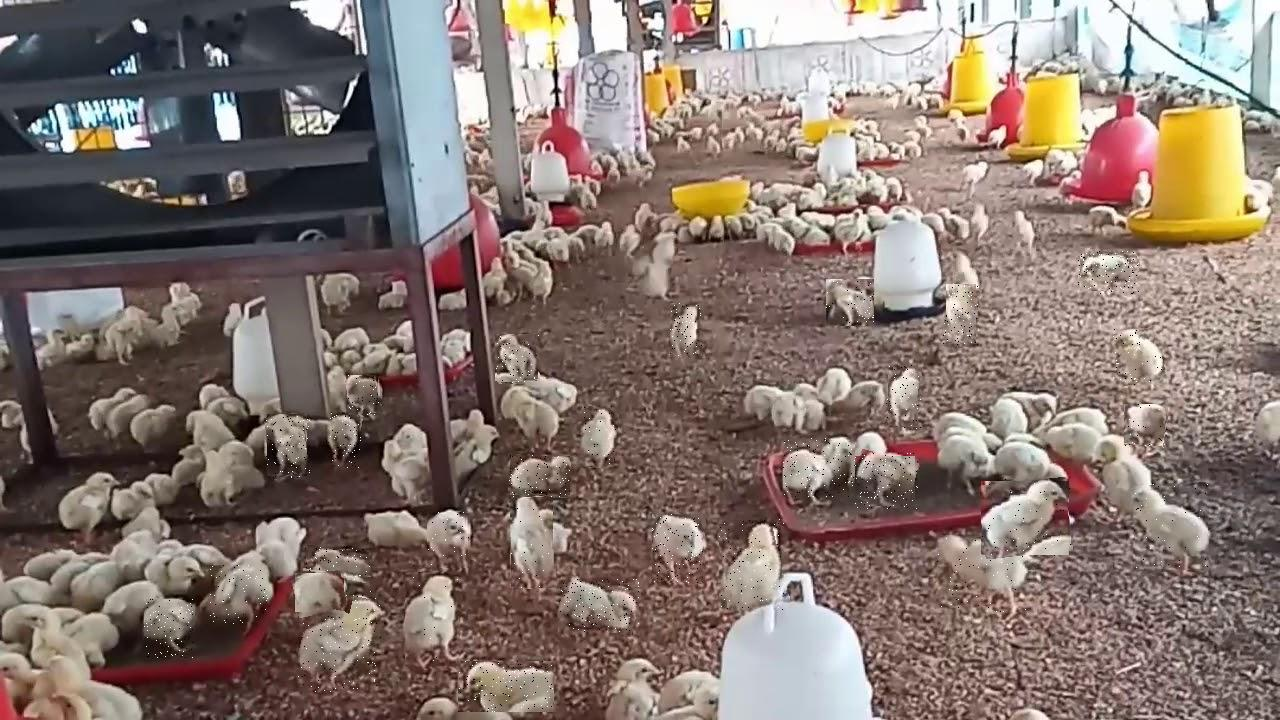chicken: (299, 590, 384, 692), (937, 534, 1029, 612), (981, 479, 1073, 557), (1133, 483, 1209, 572), (720, 519, 786, 610), (406, 573, 460, 670), (458, 661, 554, 712), (558, 579, 639, 633), (784, 438, 855, 497), (511, 497, 556, 588), (853, 453, 918, 509), (653, 515, 705, 584), (210, 566, 268, 625), (145, 599, 195, 658), (1112, 329, 1163, 385), (267, 415, 311, 479), (1078, 251, 1139, 294), (509, 455, 571, 497), (428, 512, 470, 568), (293, 572, 346, 616), (580, 406, 617, 469), (826, 279, 874, 326), (304, 547, 372, 580), (886, 366, 921, 430), (943, 285, 979, 346), (496, 335, 540, 384), (1125, 405, 1168, 448), (328, 412, 361, 468), (671, 304, 703, 357), (347, 376, 382, 417)
